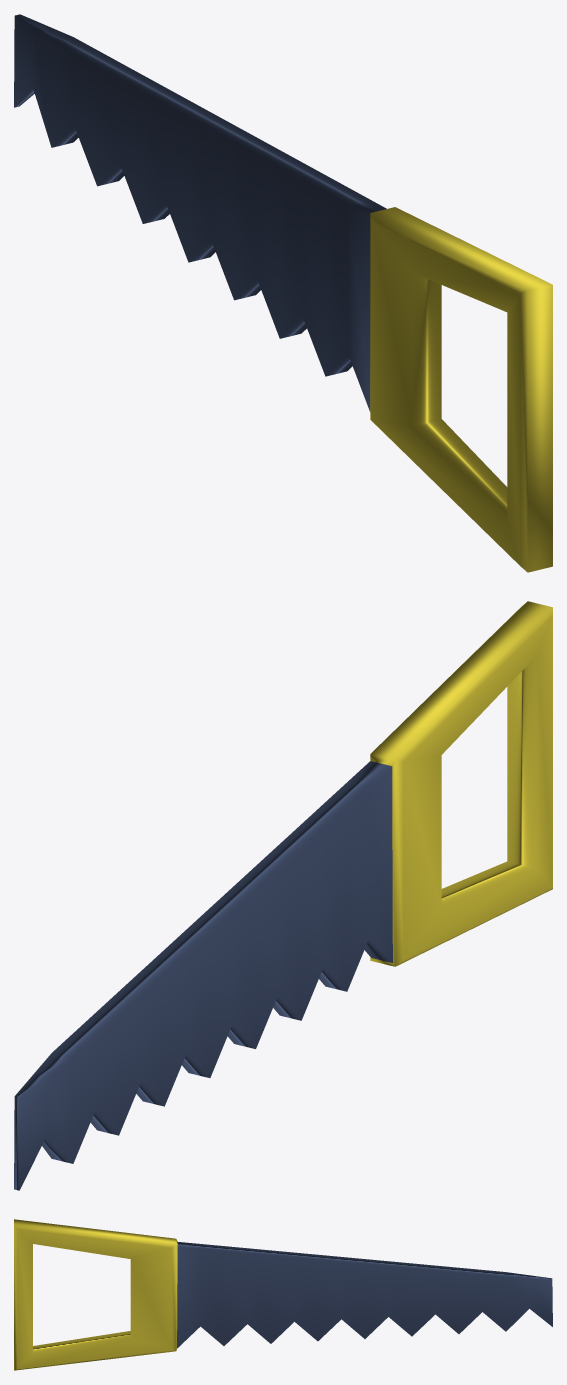
Rendered from HandSaw.fbx.
The picture shows the model from 3 angles, top to bottom: view 1: azimuth 30°, elevation 25°; view 2: azimuth 150°, elevation 25°; view 3: azimuth 270°, elevation 25°; orthographic projection. The views are drawn at different scales.
Parts seen in each view (by area): view 1: Cube.016; view 2: Cube.016; view 3: Cube.016.
Boxes of the visible parts, box(x1,y1,x2,y2) form: Cube.016: box(14, 14, 552, 572); Cube.016: box(14, 601, 552, 1190); Cube.016: box(14, 1219, 552, 1370).
Size of the model in its own units: 1.78 by 14.8 by 49.82.
